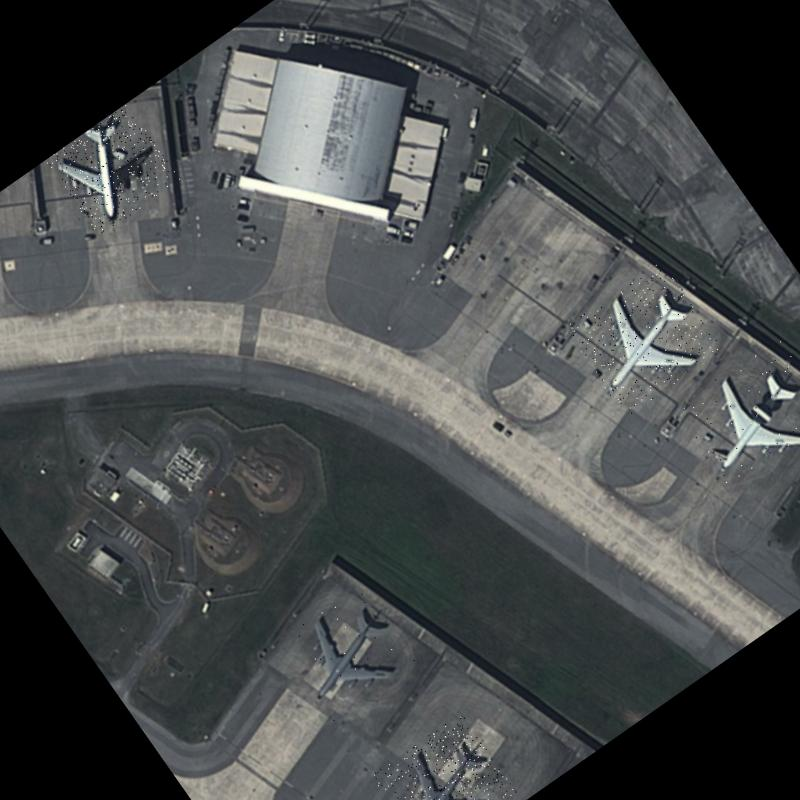A11: (562, 260, 724, 419), (45, 102, 182, 237)
A14: (276, 580, 424, 724), (371, 712, 518, 800)
A7: (673, 336, 800, 496)
